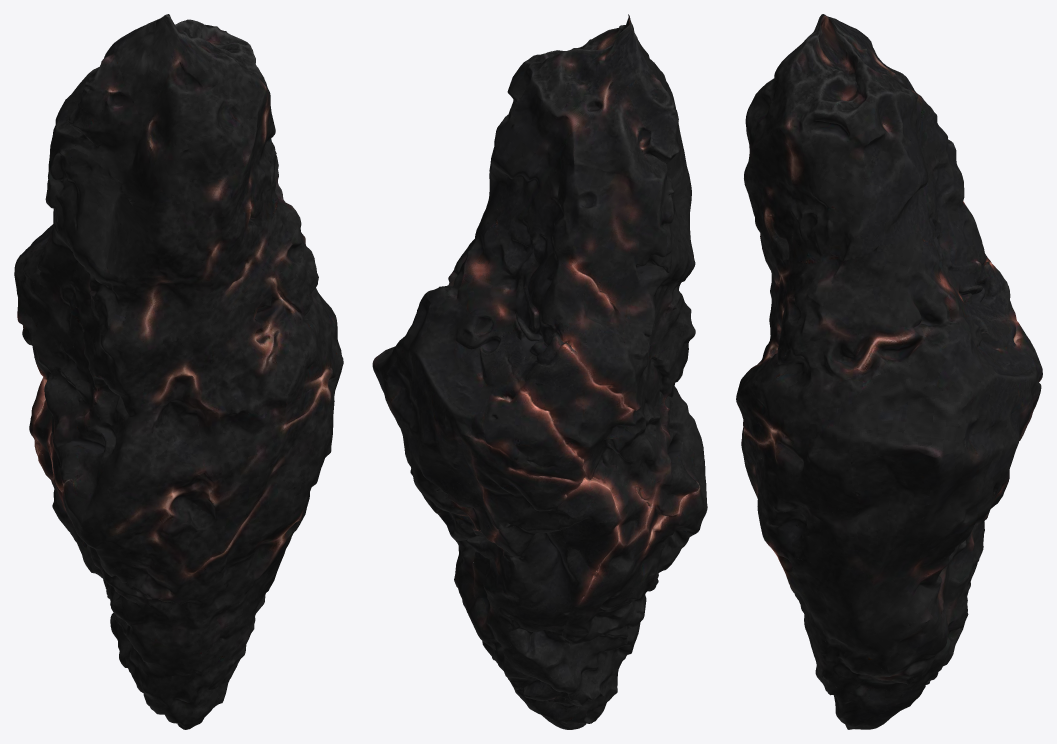
The model's file is shard-01-low.glb.
3 views of the same model, side by side, from view 1: azimuth 30°, elevation 25°; view 2: azimuth 150°, elevation 25°; view 3: azimuth 270°, elevation 25° (orthographic). The views are drawn at different scales.
Visible parts, largest first — view 1: Onyx_Shard_Web; view 2: Onyx_Shard_Web; view 3: Onyx_Shard_Web.
Boxes of the visible parts, bbox=[...] form: Onyx_Shard_Web: bbox=[14, 14, 343, 729]; Onyx_Shard_Web: bbox=[372, 14, 707, 729]; Onyx_Shard_Web: bbox=[736, 14, 1042, 729].
Size of the model in its own units: 0.8135 by 1.95 by 0.7749.
1 material, 1 textured.
